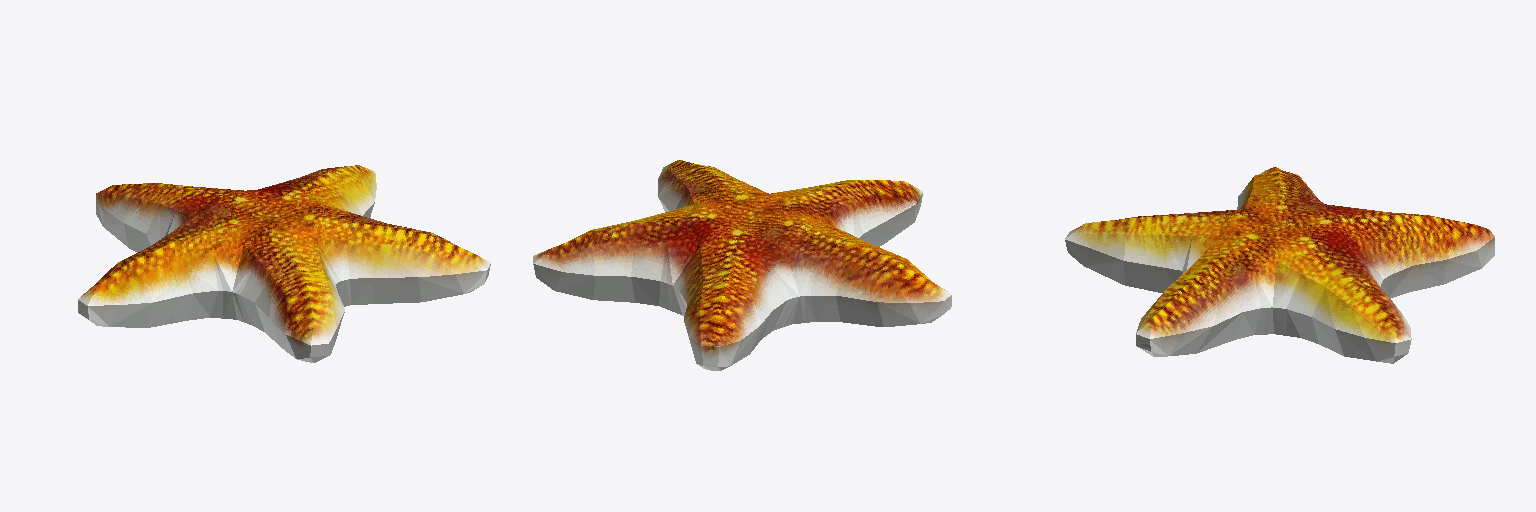
3 views of the same model, side by side, from view 1: azimuth 30°, elevation 25°; view 2: azimuth 150°, elevation 25°; view 3: azimuth 270°, elevation 25° (orthographic).
Visible parts, largest first — view 1: rg_12_0; view 2: rg_12_0; view 3: rg_12_0.
Boxes of the visible parts, <box> form: rg_12_0: <box>78,165,490,362</box>; rg_12_0: <box>533,160,951,370</box>; rg_12_0: <box>1065,167,1494,363</box>.
Size of the model in its own units: 2.89 by 0.6159 by 3.04.
Materials: 1 (1 with a texture image).